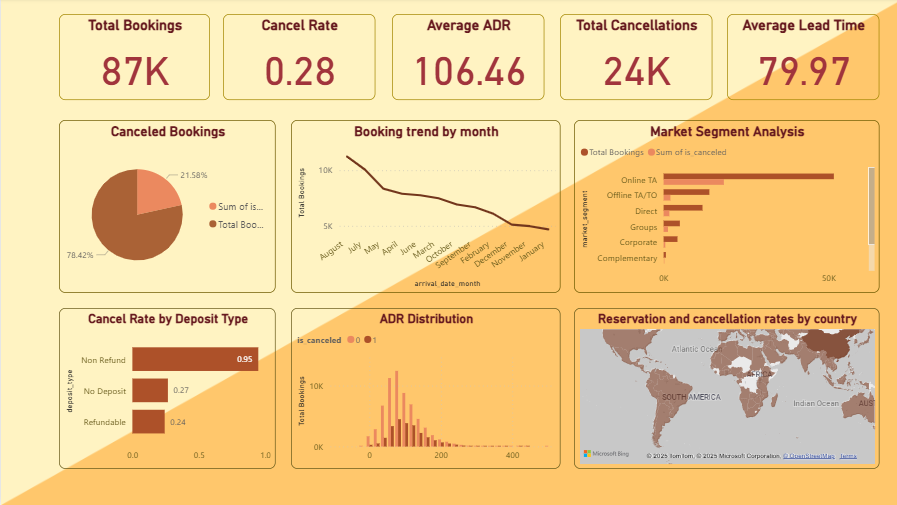

The page's visual inventory and layout, read from the dashboard file:
{"tool":"powerbi","page":{"name":"Dashboard","canvas":[1280,720],"ordinal":1},"visuals":[{"type":"card","title":"Total Bookings","fields":{"Values":["Hotel_Booking.Total Bookings"]},"box":[82.5,22.2,214.3,122.2],"z":0},{"type":"card","title":"Cancel Rate","fields":{"Values":["Hotel_Booking.Cancel Rate"]},"box":[314.3,22.2,215.9,122.2],"z":1000},{"type":"card","title":"Average ADR","fields":{"Values":["Hotel_Booking.Average ADR"]},"box":[554,22.2,215.9,122.2],"z":2000},{"type":"card","title":"Total Cancellations","fields":{"Values":["Hotel_Booking.Total Cancellations"]},"box":[792.1,22.2,215.9,122.2],"z":3000},{"type":"card","title":"Average Lead Time","fields":{"Values":["Hotel_Booking.Average Lead Time"]},"box":[1028.6,22.2,215.9,122.2],"z":4000},{"type":"pieChart","title":"Canceled Bookings","fields":{"Y":["Sum(Hotel_Booking.is_canceled)","Hotel_Booking.Total Bookings"]},"box":[82.1,173.1,307.5,244.8],"z":5000},{"type":"lineChart","title":"Booking trend by month","fields":{"Category":["Hotel_Booking.arrival_date_month"],"Y":["Hotel_Booking.Total Bookings"]},"box":[410.4,173.1,382.1,244.8],"z":6000},{"type":"clusteredBarChart","title":"Market Segment Analysis","fields":{"Category":["Hotel_Booking.market_segment"],"Y":["Hotel_Booking.Total Bookings","Sum(Hotel_Booking.is_canceled)"]},"box":[811.9,173.1,432.8,244.8],"z":7000},{"type":"barChart","title":"Cancel Rate by Deposit Type","fields":{"Category":["Hotel_Booking.deposit_type"],"Y":["Hotel_Booking.Cancel Rate"]},"box":[82.1,438.8,307.5,228.4],"z":8000},{"type":"clusteredColumnChart","title":"ADR Distribution","fields":{"Category":["Hotel_Booking.adr (bins)"],"Y":["Hotel_Booking.Total Bookings"],"Series":["Hotel_Booking.is_canceled"]},"box":[410.4,438.8,382.1,228.4],"z":9000},{"type":"filledMap","title":"Reservation and cancellation rates by country","fields":{"Category":["Hotel_Booking.country"]},"box":[812,439,433,228],"z":10000}]}

Visuals, with their boxes in screenshot pixels (x1, y1, x2, y2), scaled from the page's 1280x720 canvas onto the 897x505 screenshot:
"Total Bookings" card: <box>58,16,208,101</box>
"Cancel Rate" card: <box>220,16,372,101</box>
"Average ADR" card: <box>388,16,540,101</box>
"Total Cancellations" card: <box>555,16,706,101</box>
"Average Lead Time" card: <box>721,16,872,101</box>
"Canceled Bookings" pieChart: <box>58,121,273,293</box>
"Booking trend by month" lineChart: <box>288,121,555,293</box>
"Market Segment Analysis" clusteredBarChart: <box>569,121,872,293</box>
"Cancel Rate by Deposit Type" barChart: <box>58,308,273,468</box>
"ADR Distribution" clusteredColumnChart: <box>288,308,555,468</box>
"Reservation and cancellation rates by country" filledMap: <box>569,308,872,468</box>
